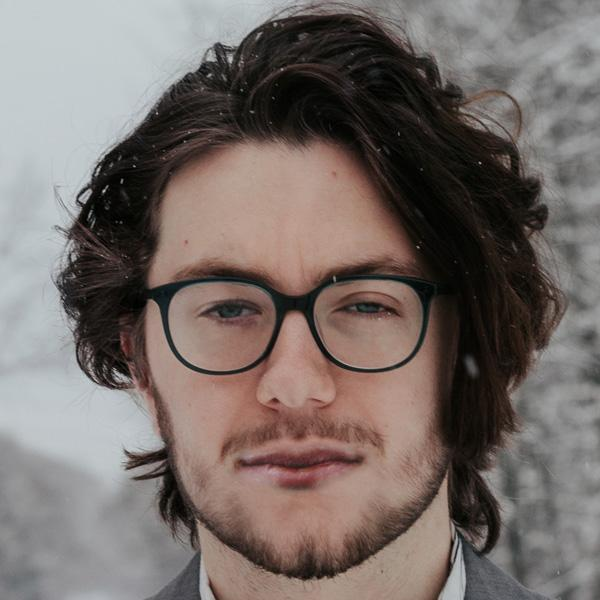Eyes: (323, 284, 409, 335), (188, 285, 270, 338)
